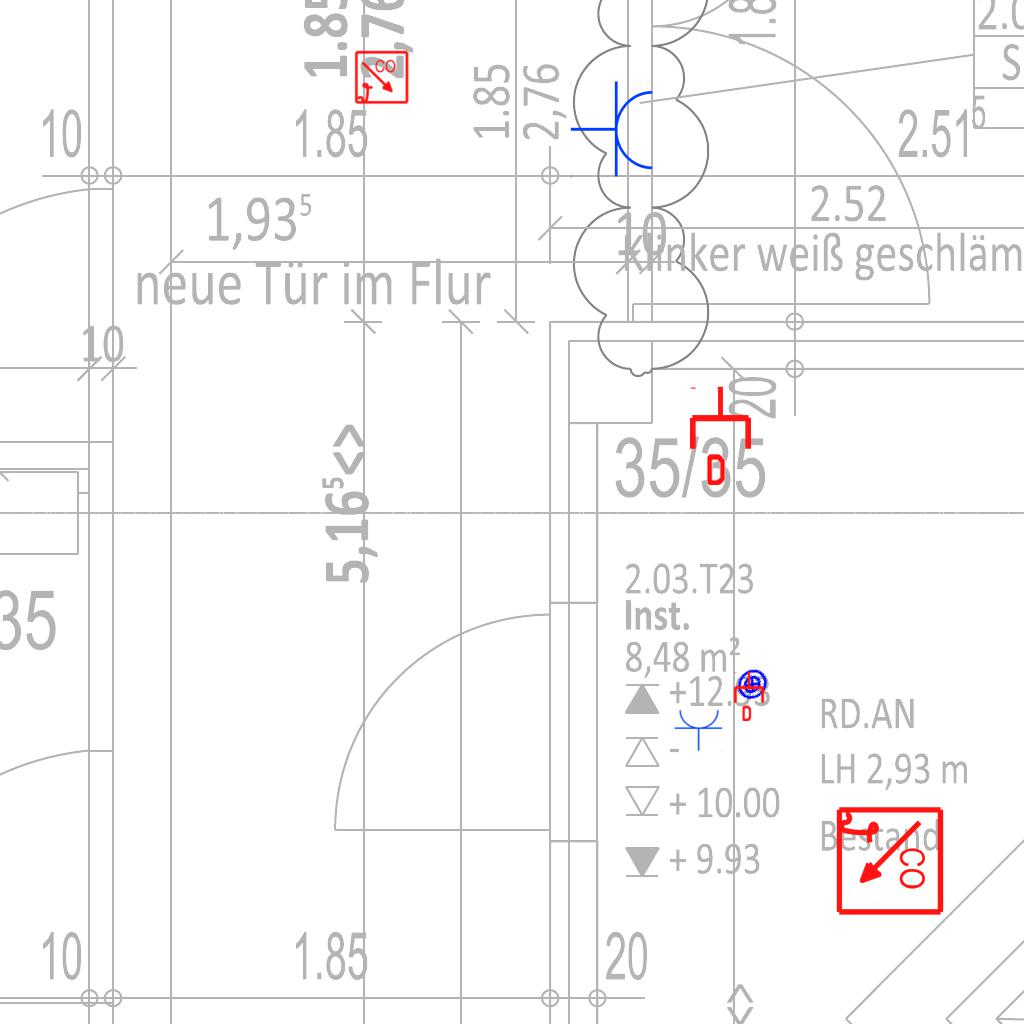Datenanschluss_einfach: (686, 385, 755, 485), (732, 671, 766, 721)
ROA_Rauchmelder_optisch_mit_Signalgeber_(Sockelsirene): (832, 805, 945, 918), (354, 50, 410, 106)
Schukosteckdose_einfach: (570, 80, 657, 180), (674, 708, 724, 751)
Taster_beleuchtet: (729, 661, 776, 708)
